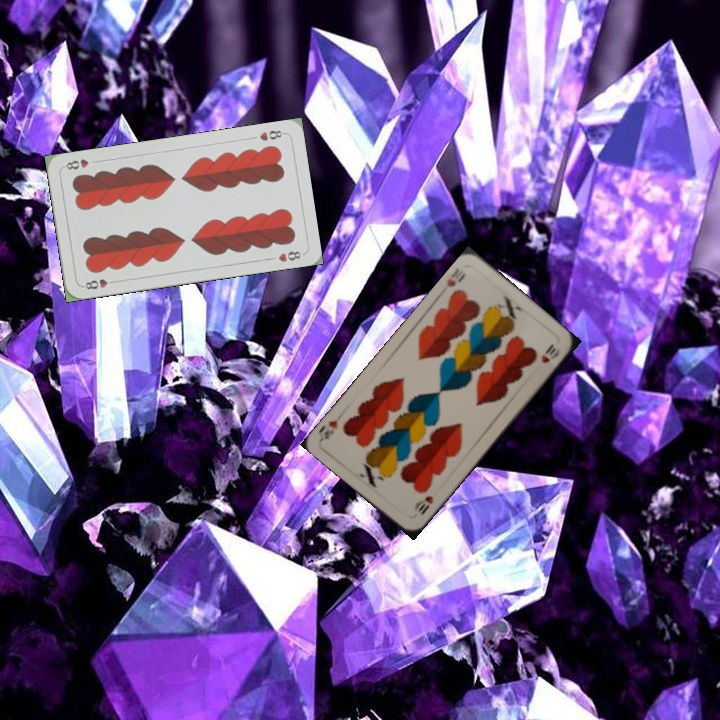H10: (410, 491, 436, 518), (442, 264, 468, 290)
H8: (79, 275, 119, 292), (255, 126, 287, 144)
